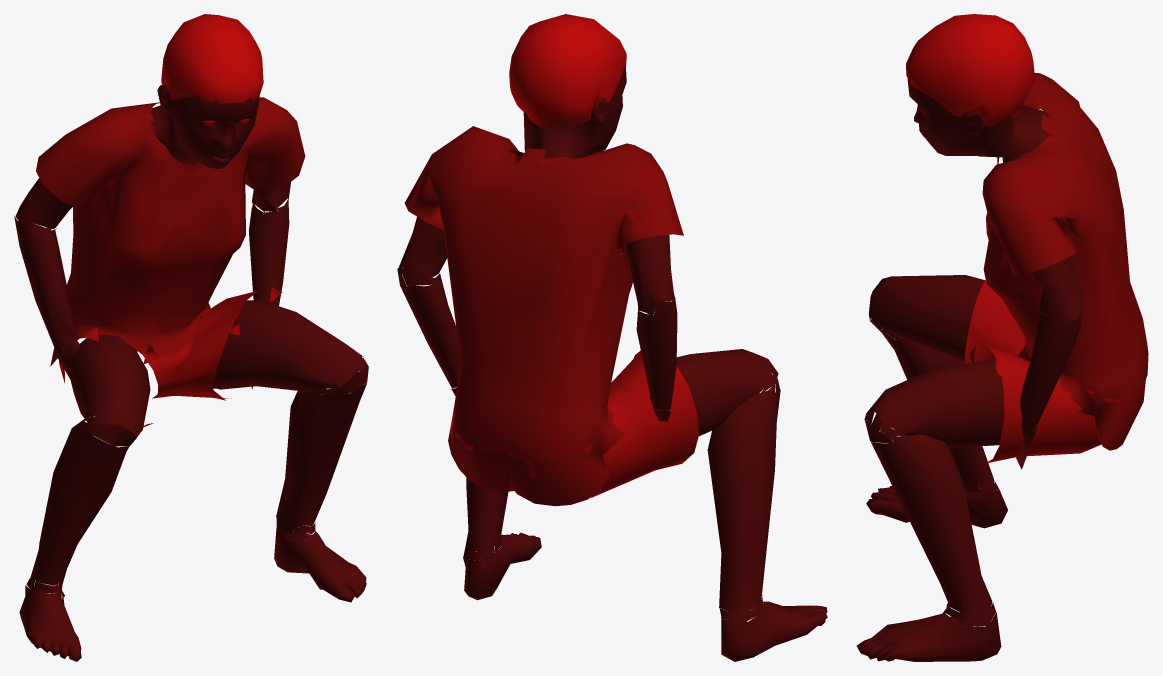
The model's file is crowd_kidSit.glb.
The picture shows the model from 3 angles, left to right: view 1: azimuth 30°, elevation 25°; view 2: azimuth 150°, elevation 25°; view 3: azimuth 270°, elevation 25°; orthographic projection. The views are drawn at different scales.
Visible parts, largest first — view 1: kidSit; view 2: kidSit; view 3: kidSit.
Boxes of the visible parts, box(x1,y1,x2,y2) form: kidSit: box(14, 14, 368, 661); kidSit: box(397, 14, 827, 661); kidSit: box(856, 14, 1148, 661).
Size of the model in its own units: 0.5965 by 0.9749 by 0.4307.
